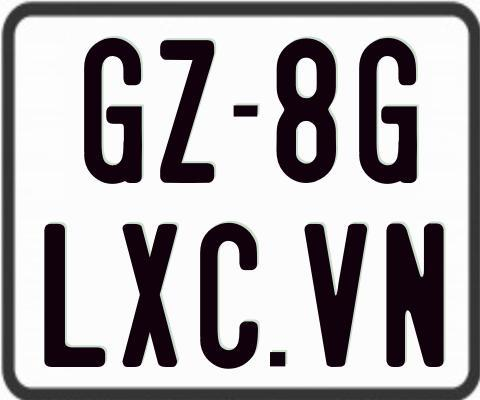8: (273, 35, 338, 185)
C: (197, 222, 256, 373)
G: (357, 37, 421, 185), (84, 36, 144, 184)
L: (42, 221, 106, 364)
N: (385, 220, 448, 369)
V: (305, 222, 368, 366)
X: (123, 224, 180, 371)
Z: (159, 38, 215, 184)
